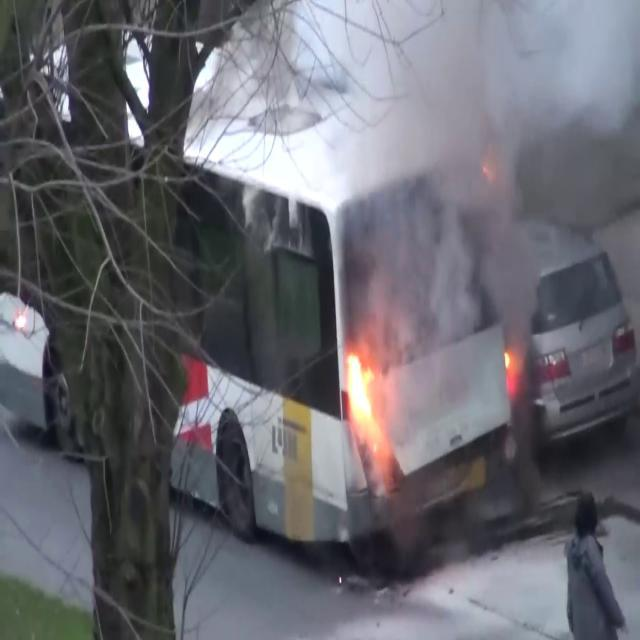Fire: (342, 333, 386, 456)
Smoke: (346, 1, 552, 402)
